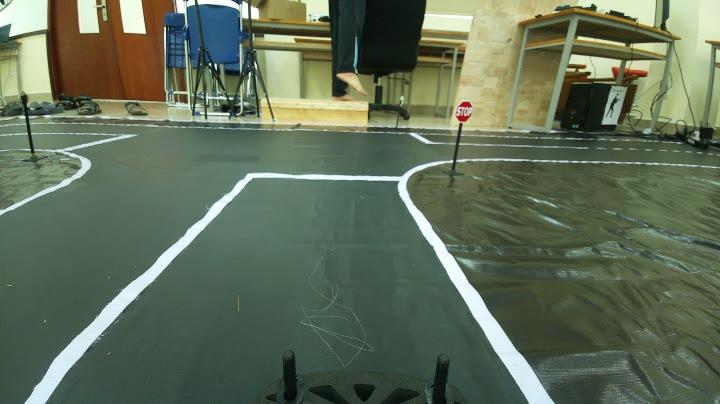stop: (453, 96, 474, 121)
